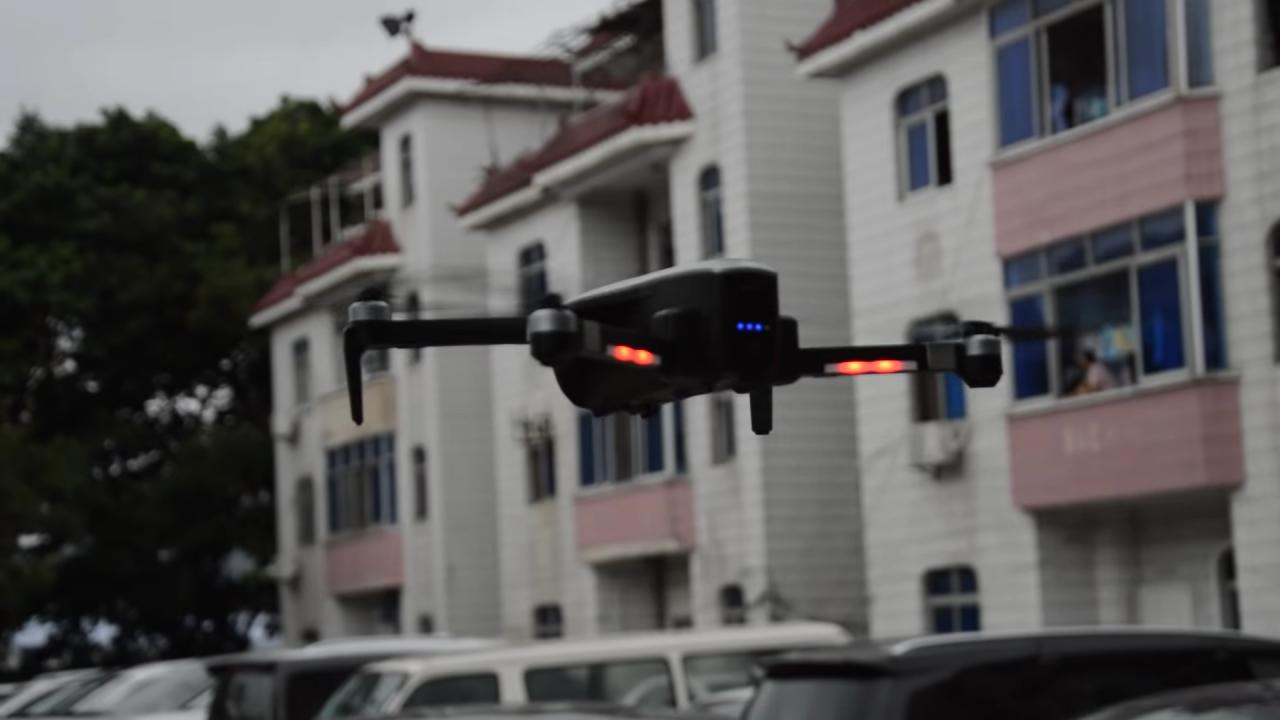Drone: (286, 245, 1114, 444)
